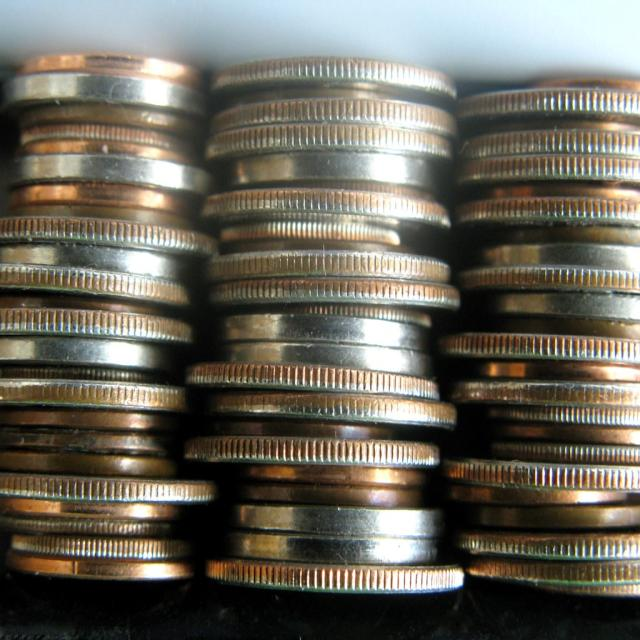Coin: (0, 58, 640, 596)
